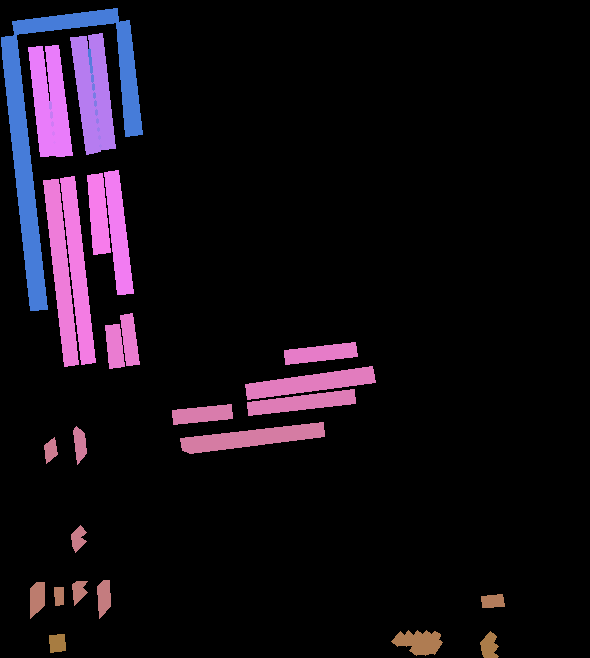parkingspot: (1, 35, 47, 310), (60, 176, 95, 364), (43, 179, 78, 366), (180, 422, 324, 453), (245, 366, 375, 399), (104, 170, 133, 294), (70, 36, 100, 154), (88, 33, 115, 149), (116, 20, 142, 136), (45, 45, 72, 156), (28, 46, 55, 156), (247, 389, 355, 415), (12, 8, 118, 34), (87, 173, 110, 254), (284, 342, 357, 364), (391, 630, 442, 655), (172, 404, 232, 424), (120, 313, 139, 365), (105, 324, 124, 368), (30, 582, 44, 618), (97, 580, 110, 618), (73, 426, 86, 464), (480, 631, 498, 658), (71, 525, 86, 552), (72, 581, 87, 605), (44, 437, 57, 463), (481, 594, 504, 607), (49, 634, 65, 652), (54, 587, 63, 605)
